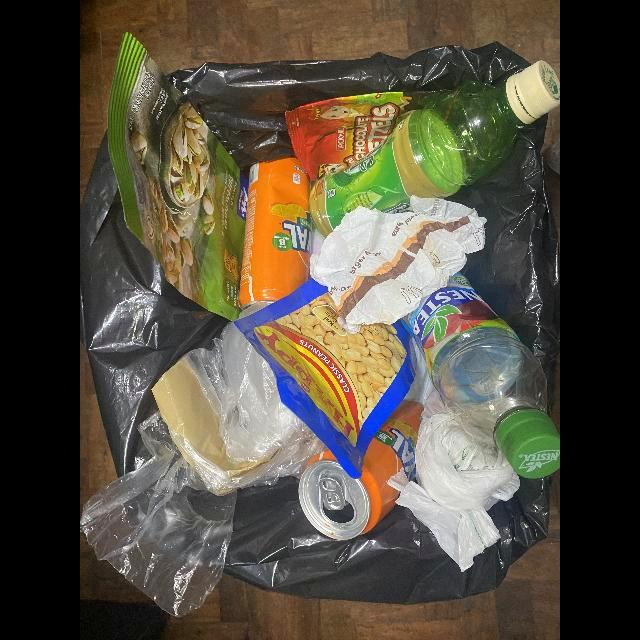aluminum: (299, 398, 424, 541), (238, 158, 313, 321)
food_wrapper: (107, 33, 252, 321), (234, 279, 423, 480), (286, 89, 440, 182)
paper: (311, 195, 486, 326)
plastic_bag: (82, 321, 327, 617), (389, 340, 524, 568)
plastic_bottle: (309, 58, 560, 237), (399, 271, 559, 479)
